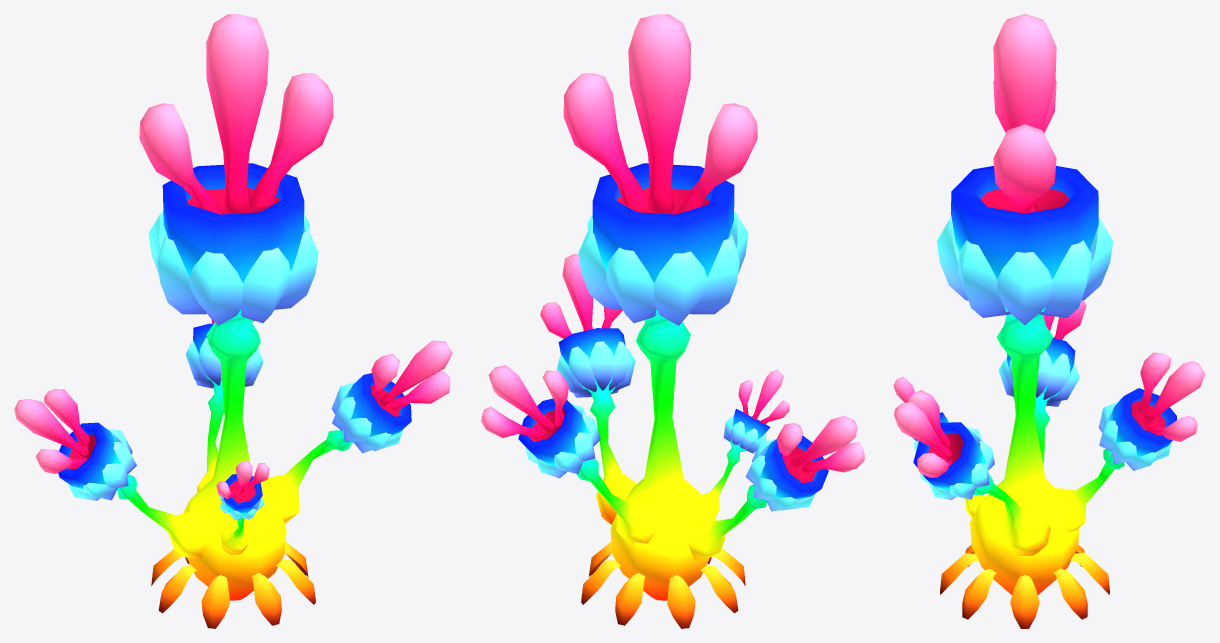
File: peacock_bloom.glb
The picture shows the model from 3 angles, left to right: view 1: azimuth 30°, elevation 25°; view 2: azimuth 150°, elevation 25°; view 3: azimuth 270°, elevation 25°; orthographic projection.
Visible parts, largest first — view 1: Peacock Bloom; view 2: Peacock Bloom; view 3: Peacock Bloom.
Part boxes in pixels (<box>): Peacock Bloom: <box>14,14,452,628</box>; Peacock Bloom: <box>481,14,864,628</box>; Peacock Bloom: <box>893,14,1205,628</box>.
Size of the model in its own units: 1.41 by 2.09 by 1.02.
Materials: 1 (1 with a texture image).
